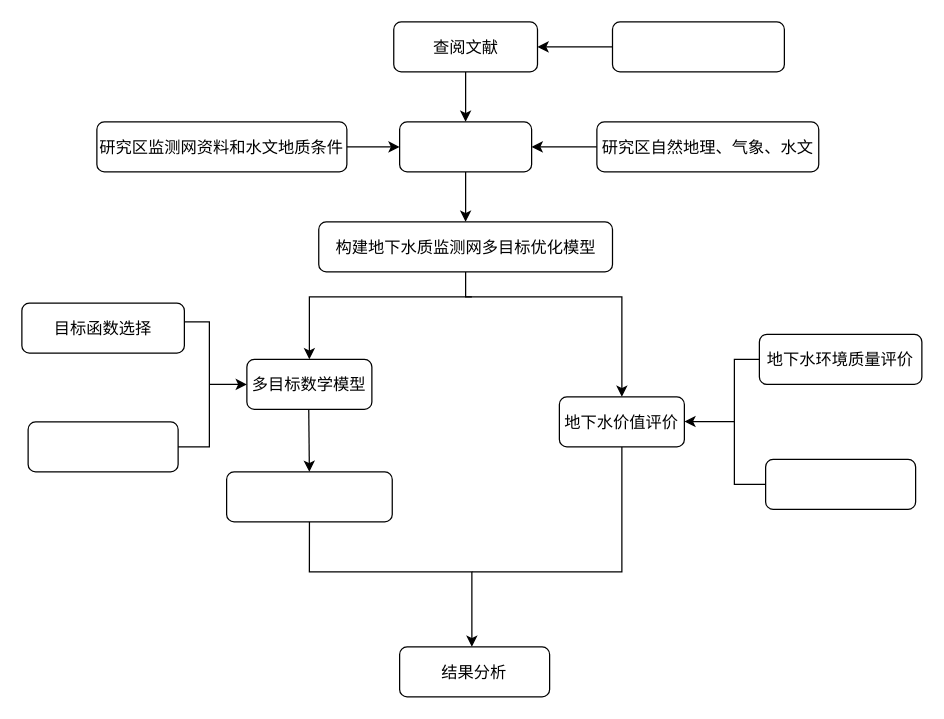
Some shapes in this 944 by 719 pixel diagram are drawn without their labels. Each missing label, with the centre of its shape:
"多目标优化方法的选择" belongs at point (697, 46).
"收集相关资料" belongs at point (465, 146).
"模拟退火算法" belongs at point (102, 446).
"水源地等级" belongs at point (840, 483).
"求解地下水质优化模型" belongs at point (308, 496).
